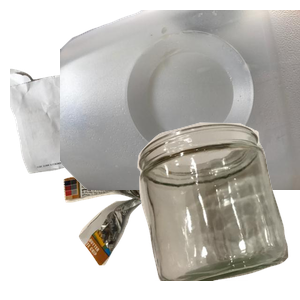glass: (135, 120, 300, 300)
paper: (10, 39, 236, 205)
plastic: (60, 10, 300, 190)
trash: (61, 123, 273, 300)
